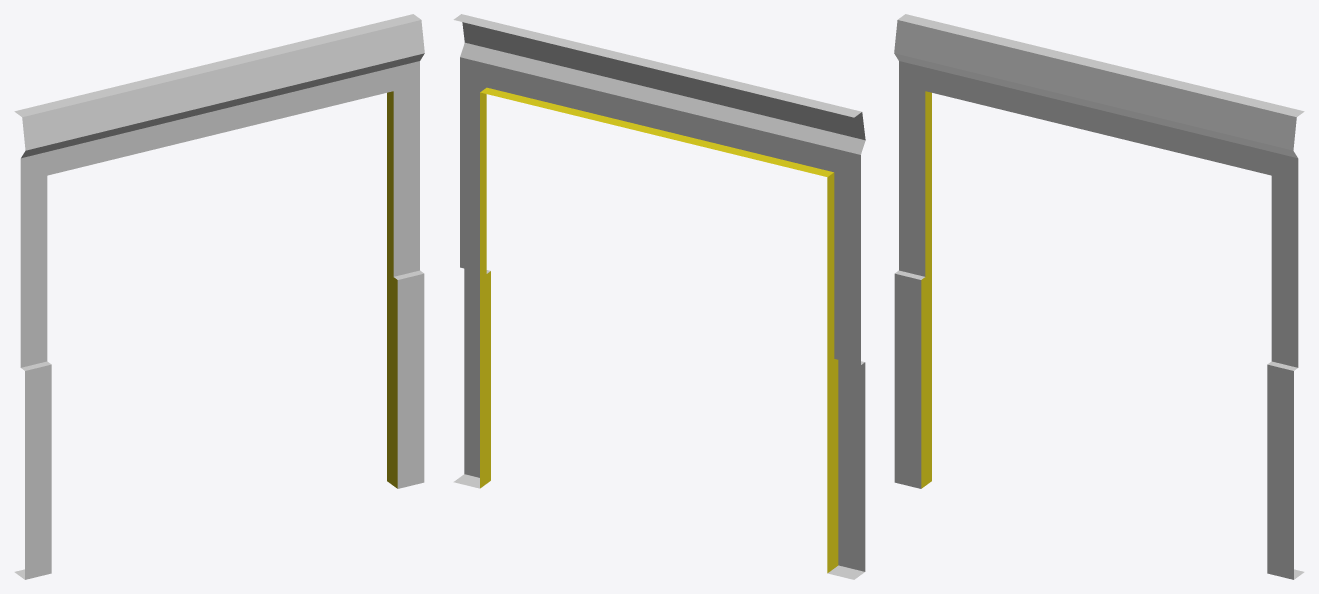
The model's file is Interior_Wall_Door.fbx.
3 views of the same model, side by side, from view 1: azimuth 30°, elevation 25°; view 2: azimuth 150°, elevation 25°; view 3: azimuth 330°, elevation 25° (orthographic).
Visible parts, largest first — view 1: interior_Door; view 2: interior_Door; view 3: interior_Door.
Part boxes in pixels (<box>): interior_Door: <box>14,14,424,579</box>; interior_Door: <box>453,14,865,579</box>; interior_Door: <box>894,14,1304,579</box>.
Size of the model in its own units: 2 by 2.2 by 0.0988.
